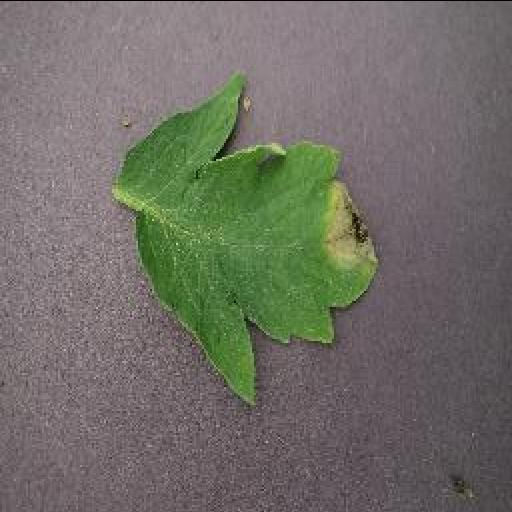disease_tomato: (118, 68, 380, 406)
